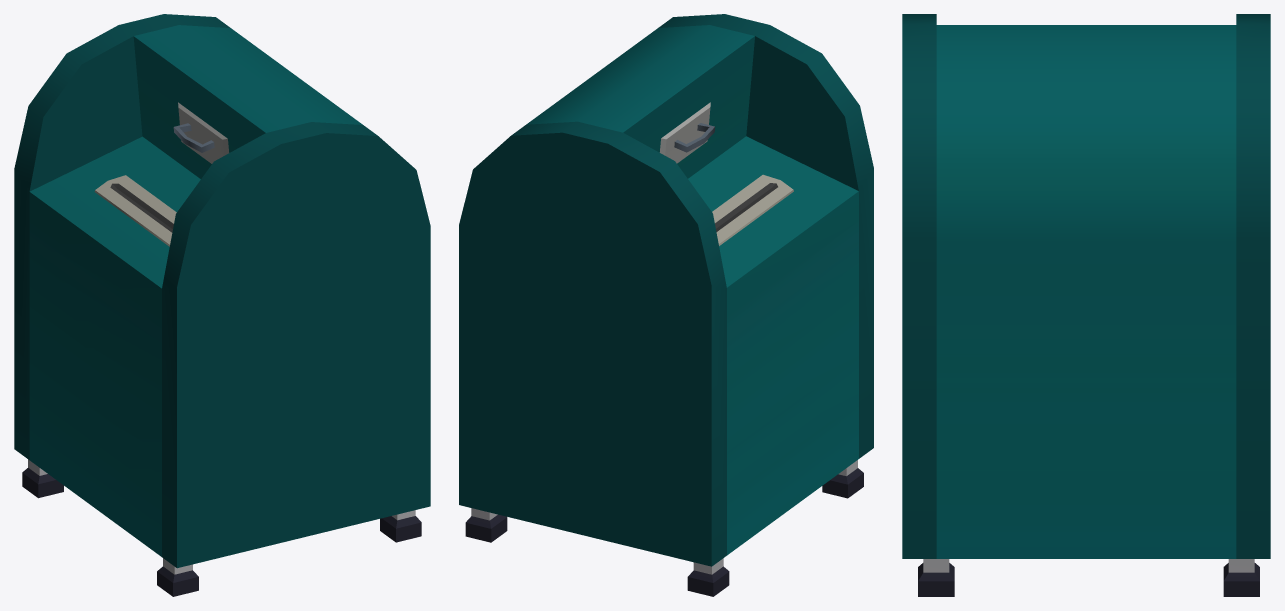
File: PostBox_1_F.fbx
3 views of the same model, side by side, from view 1: azimuth 30°, elevation 25°; view 2: azimuth 150°, elevation 25°; view 3: azimuth 270°, elevation 25° (orthographic). The views are drawn at different scales.
Visible parts, largest first — view 1: PostBox_1_F; view 2: PostBox_1_F; view 3: PostBox_1_F.
Part boxes in pixels (bbox=[...]): PostBox_1_F: bbox=[14, 14, 430, 596]; PostBox_1_F: bbox=[459, 14, 873, 596]; PostBox_1_F: bbox=[902, 14, 1270, 596].
Size of the model in its own units: 51.21 by 83.66 by 56.89.
